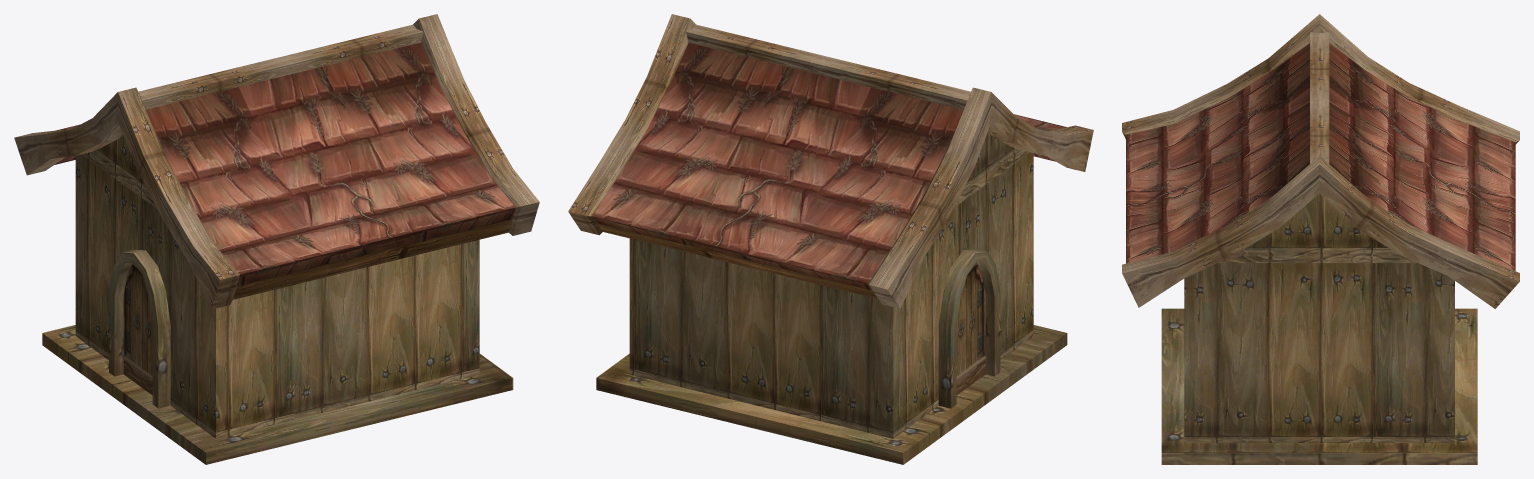
File: House1.FBX
The picture shows the model from 3 angles, left to right: view 1: azimuth 30°, elevation 25°; view 2: azimuth 150°, elevation 25°; view 3: azimuth 270°, elevation 25°; orthographic projection. The views are drawn at different scales.
Visible parts, largest first — view 1: A3, A2, A1, A4; view 2: A3, A2, A1, A4; view 3: A3, A2, A1.
Part boxes in pixels (x1,y1,x2,y2): A3: (42,134,513,464); A2: (55,42,515,299); A1: (14,14,539,309); A4: (123,263,152,395); A3: (596,132,1067,464); A2: (592,43,1066,298); A1: (568,14,1093,308); A4: (956,263,985,395); A3: (1161,193,1477,464); A2: (1126,43,1515,270); A1: (1122,14,1519,308).
Size of the model in its own units: 57.09 by 54.06 by 63.8.
4 materials, 4 textured.
